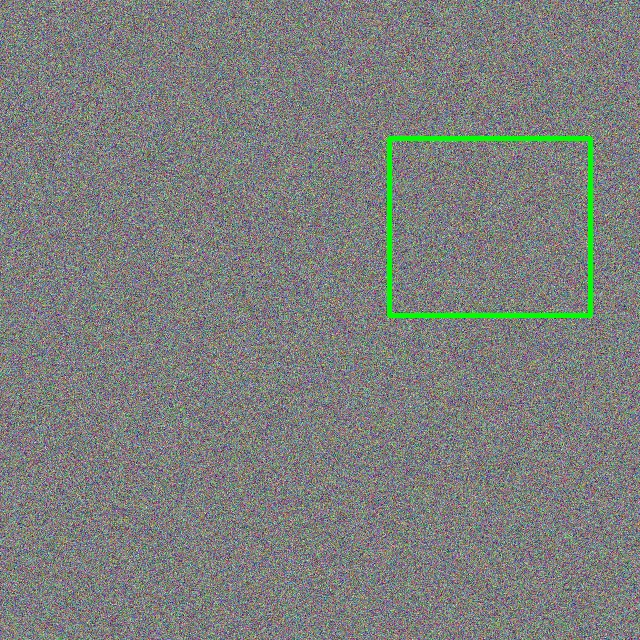base: (389, 138, 590, 315)
